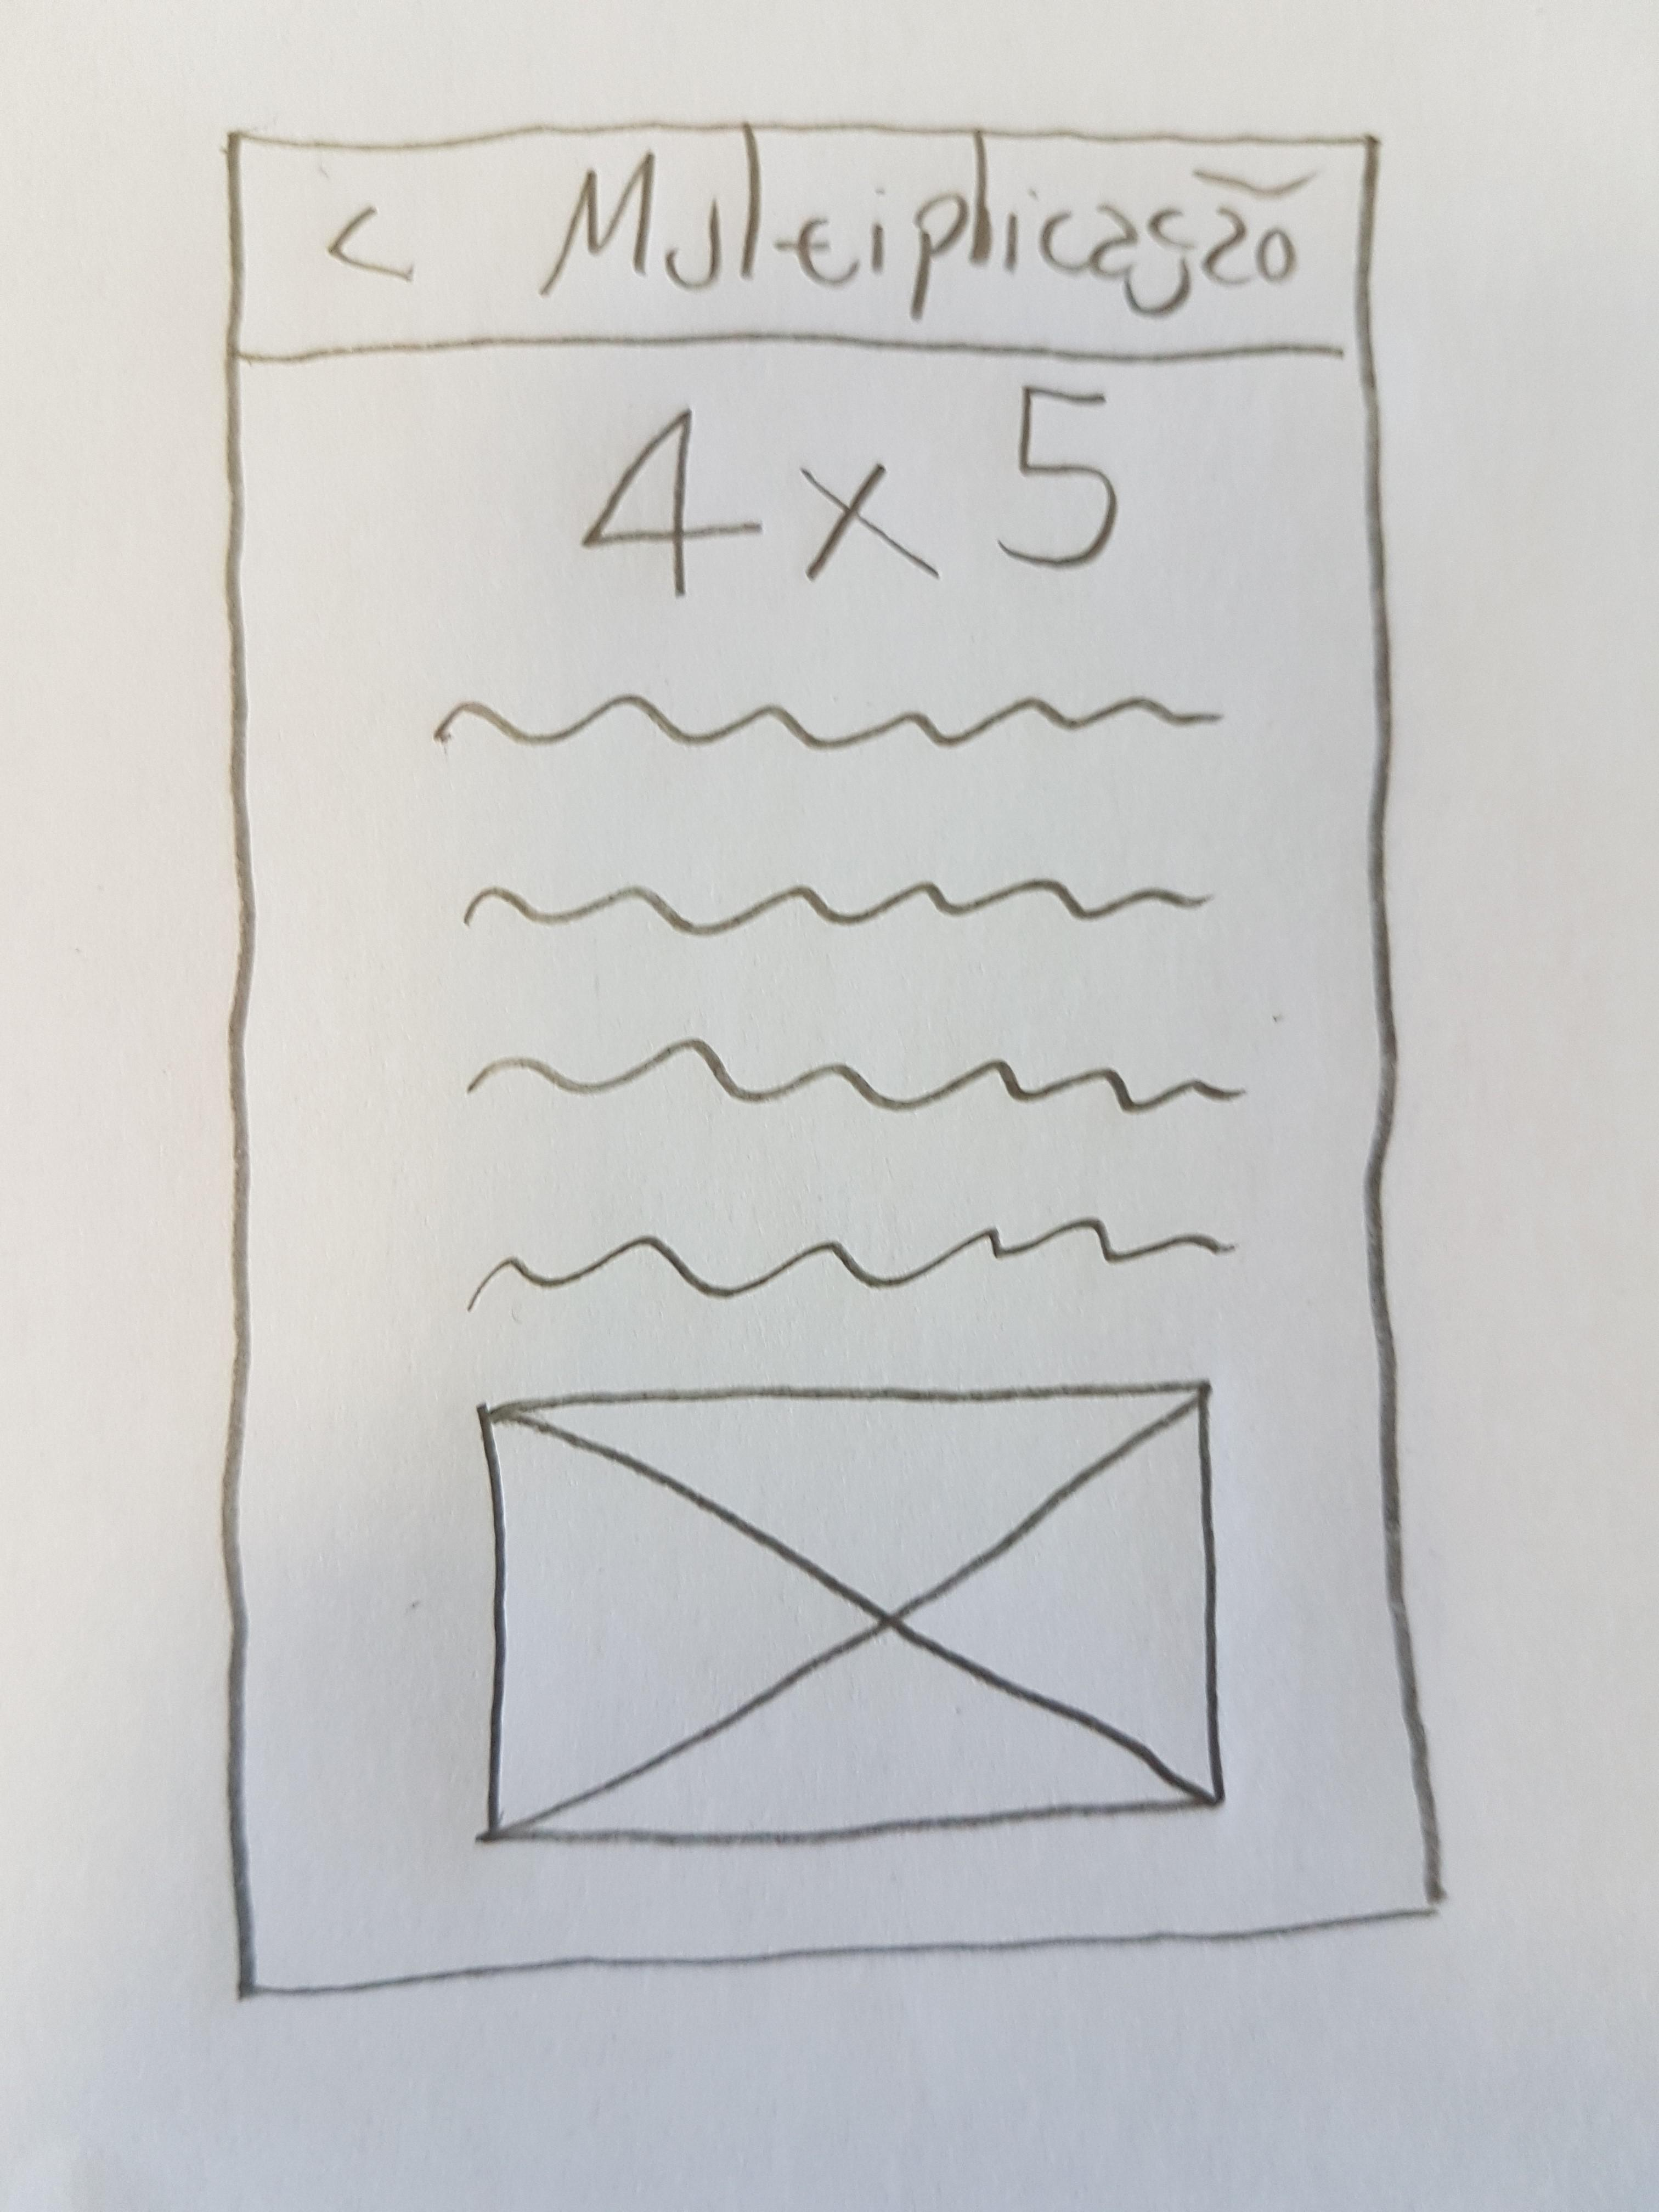Button: (324, 200, 418, 284)
Image: (469, 1378, 1229, 1858)
Label: (436, 691, 1241, 1312), (538, 134, 1321, 324), (586, 376, 1122, 601)
Screen: (214, 124, 1439, 2008)
